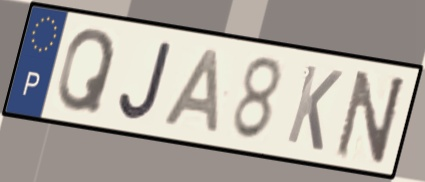8: (227, 54, 285, 144)
A: (159, 45, 221, 136)
J: (118, 38, 176, 123)
K: (282, 61, 346, 155)
N: (332, 67, 410, 166)
Q: (54, 25, 120, 116)
